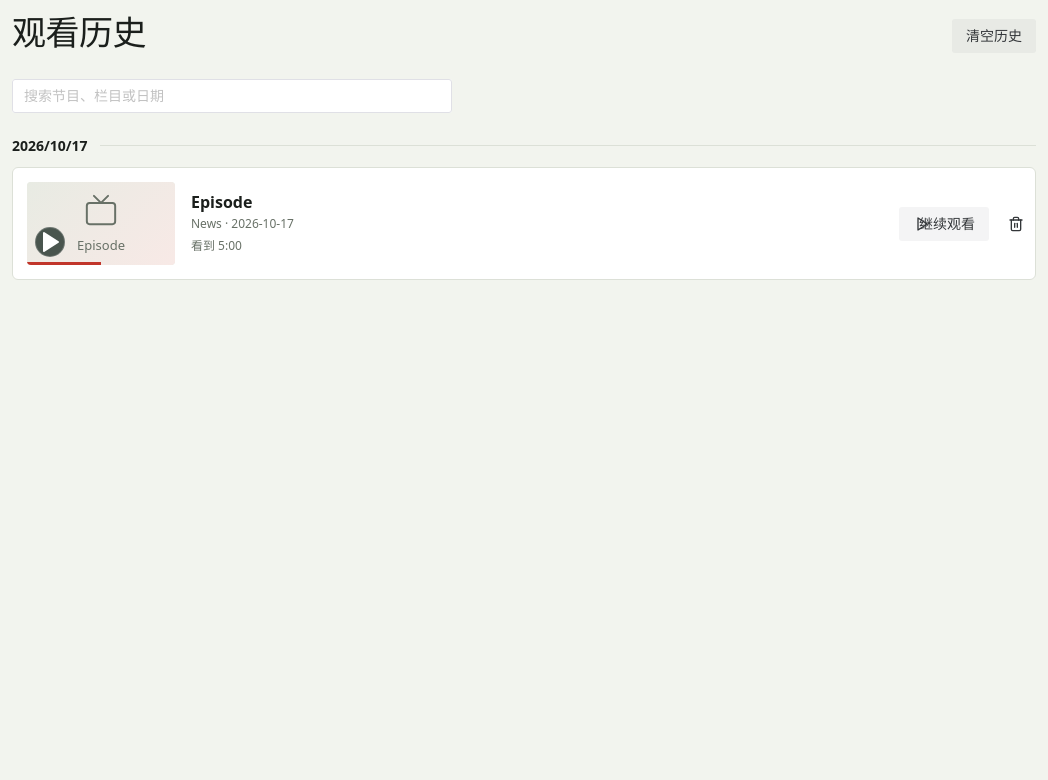
it: keeps playback available while a deletion fails
Click the button named "删除记录：Episode" at (1007, 224), box [993,207,1021,241]
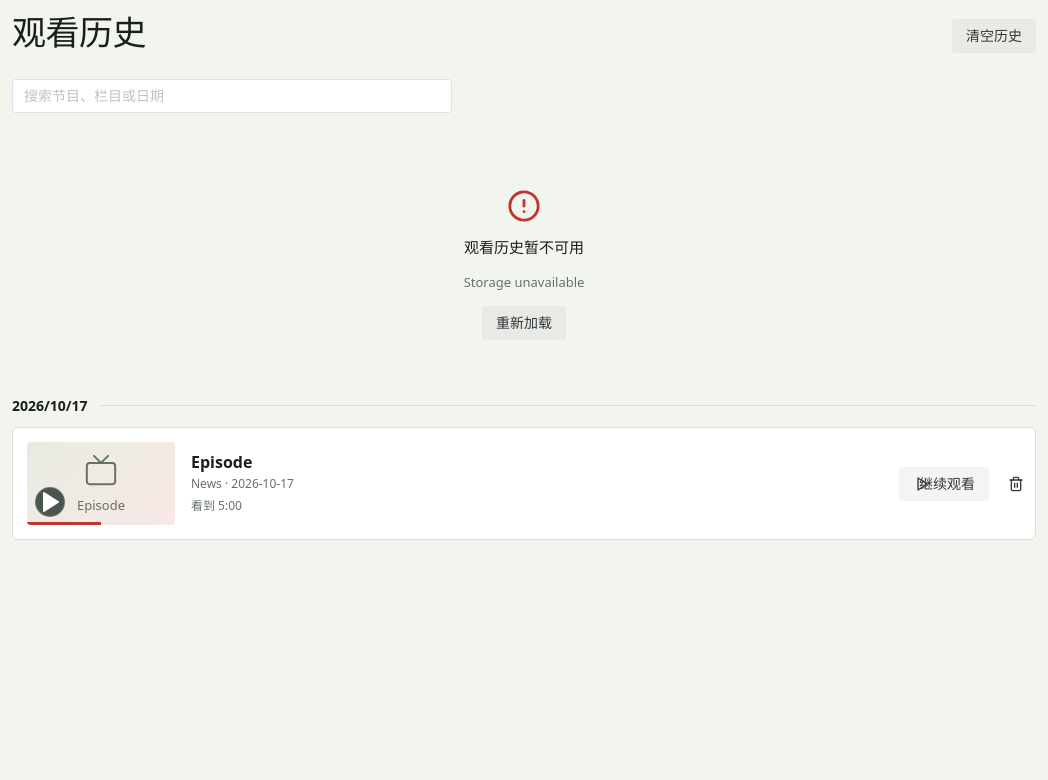
expect the button with aria-label "继续观看：Episode" is shown: met, box [899,467,989,501]
expect the text "Storage unavailable" is shown: met, box [464,271,584,294]
